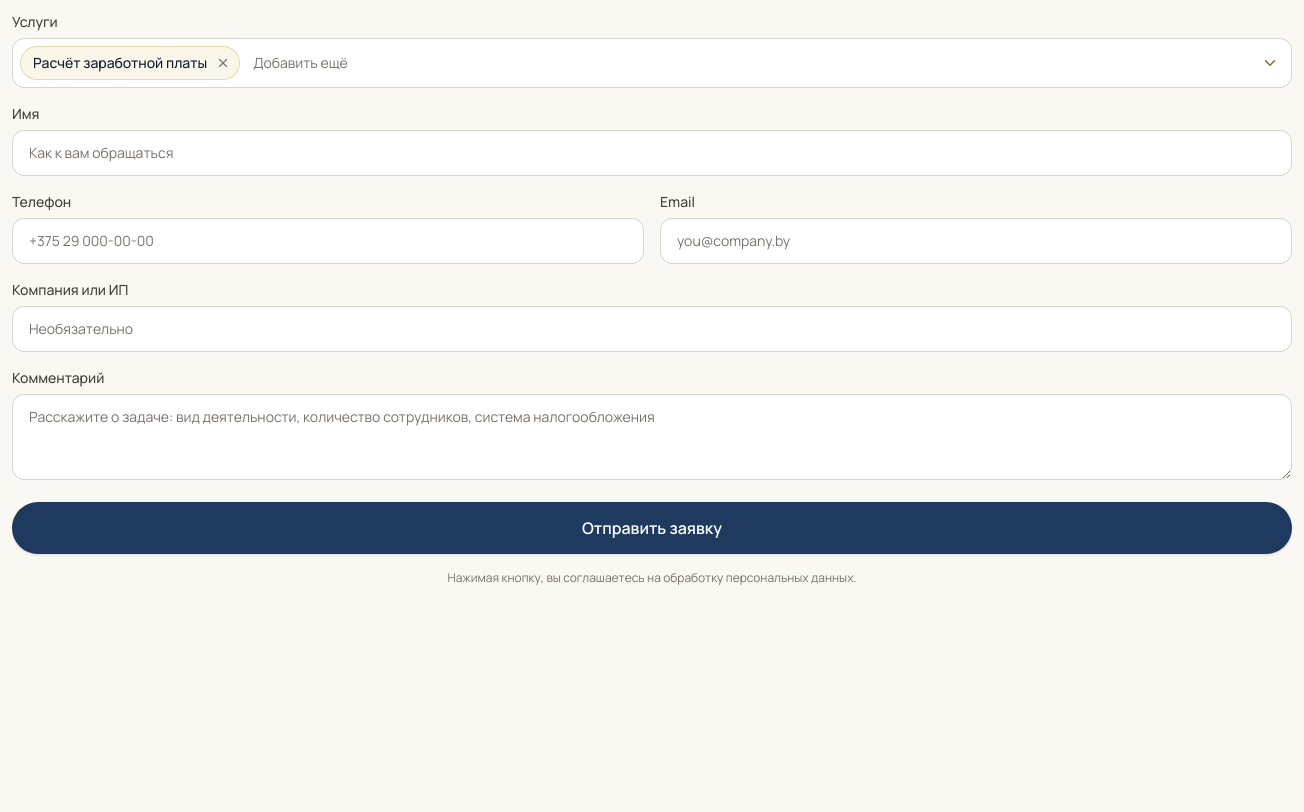
Test case: OrderForm › removes an item with its chip and closes the panel with Escape
Click the button named "Услуги" at (300, 62), box [245,45,1287,81]
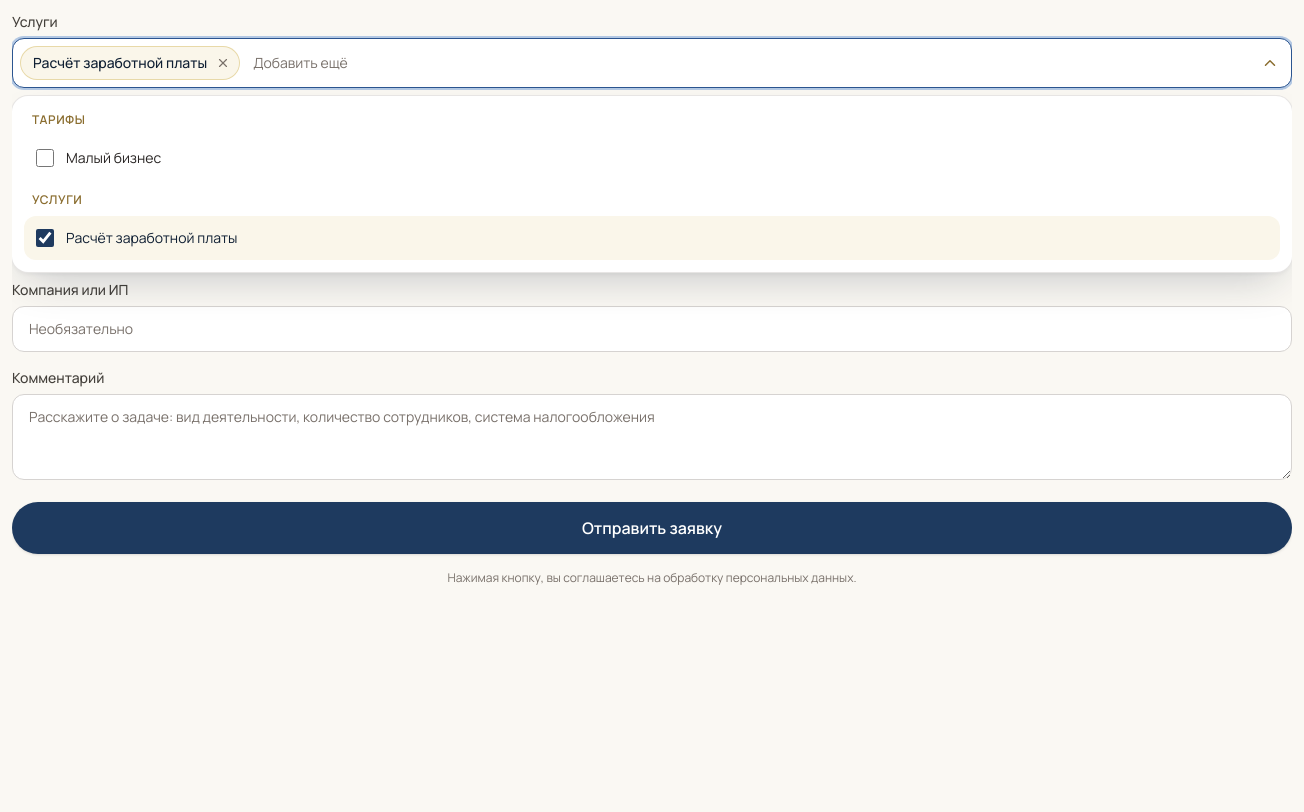
Now the button named "Услуги" is expanded, box [245,45,1287,81]
Now the checkbox labelled "Расчёт заработной платы" is checked, box [36,229,54,247]
Click the button named "Убрать: Расчёт заработной платы" at (223, 63), box [211,51,235,75]
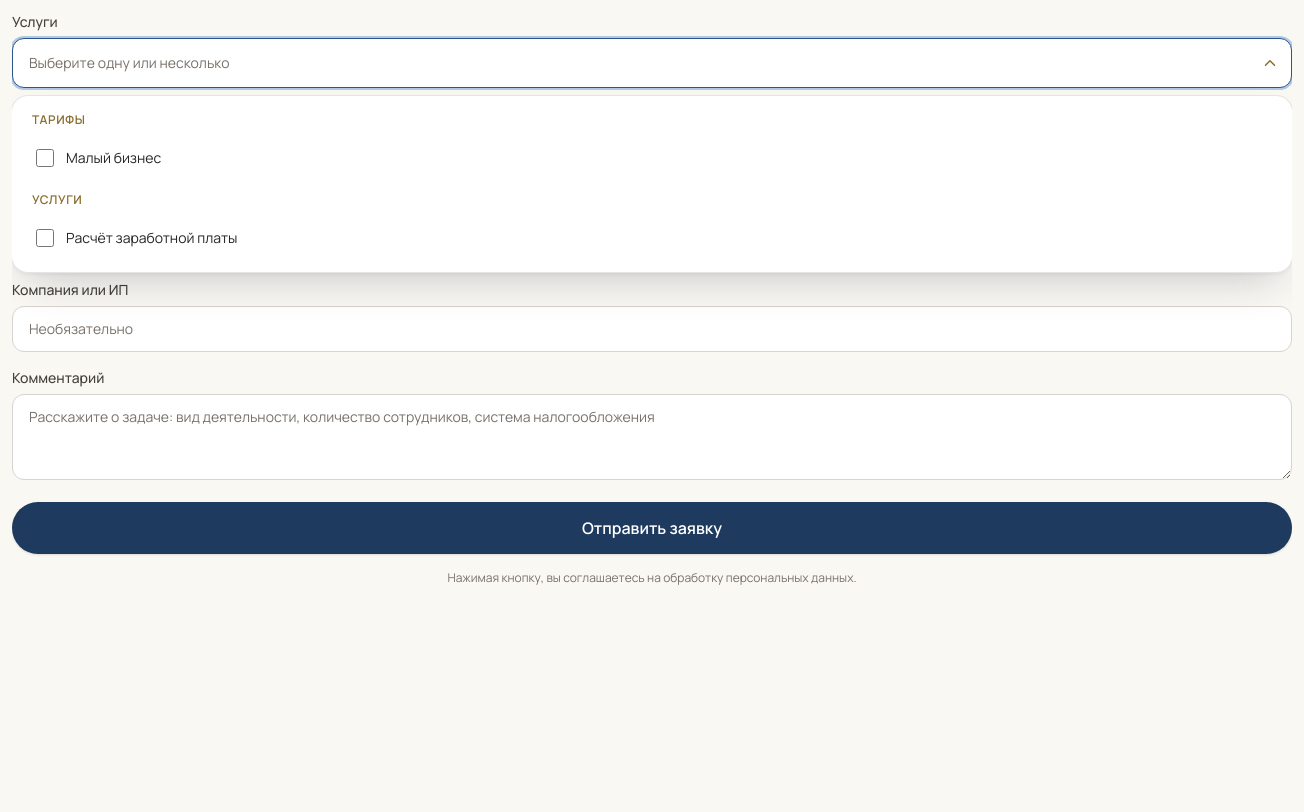
Now the checkbox labelled "Расчёт заработной платы" is not checked, box [36,229,54,247]
Press Escape
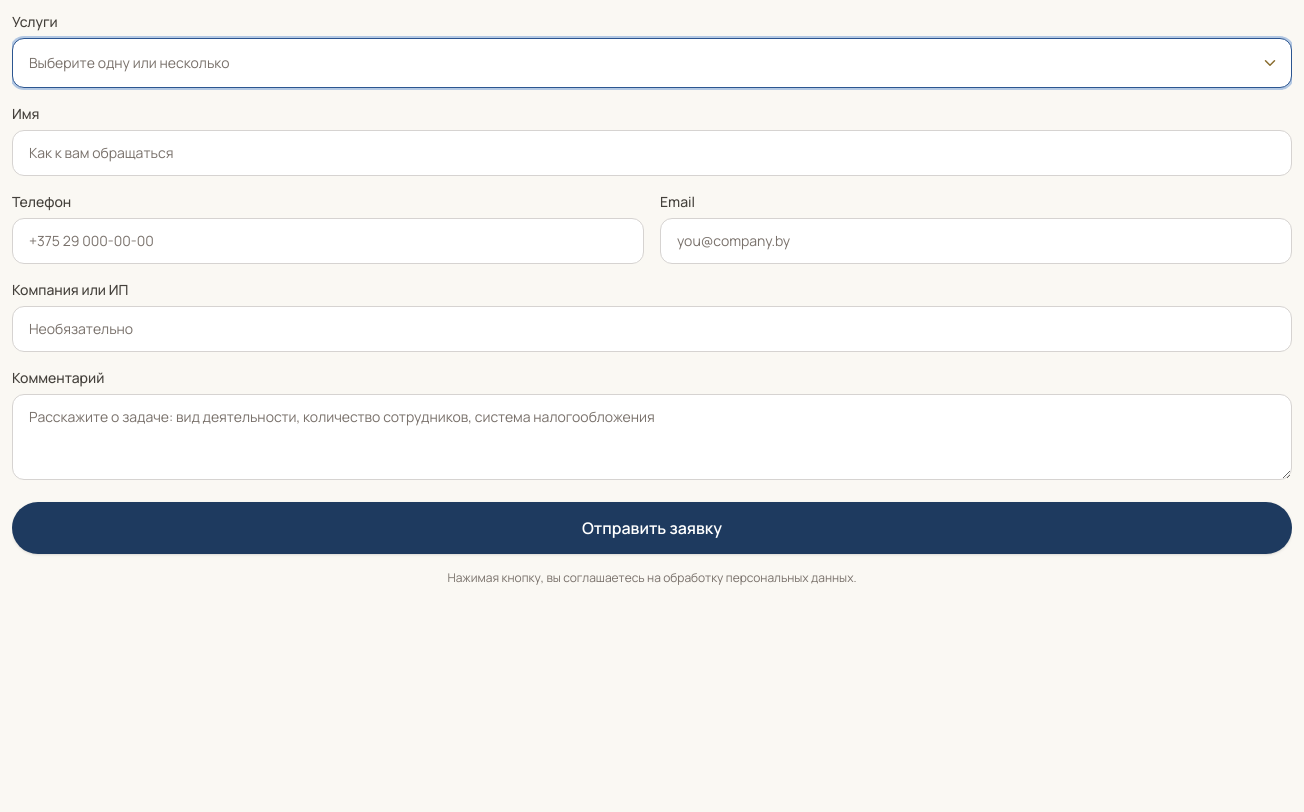
Now the text "Выберите одну или несколько" is shown, box [29,53,230,73]
Now the button named "Услуги" is collapsed, box [21,45,1287,81]
Now the text "Расчёт заработной платы" is gone
